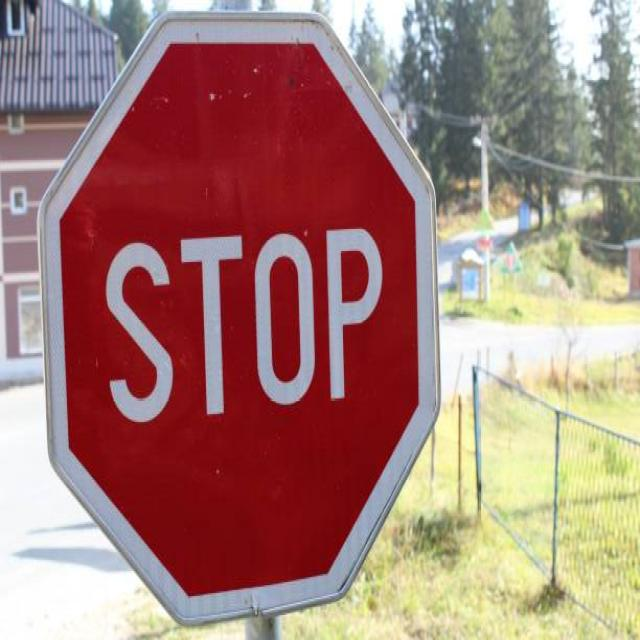stop: (33, 10, 444, 625)
